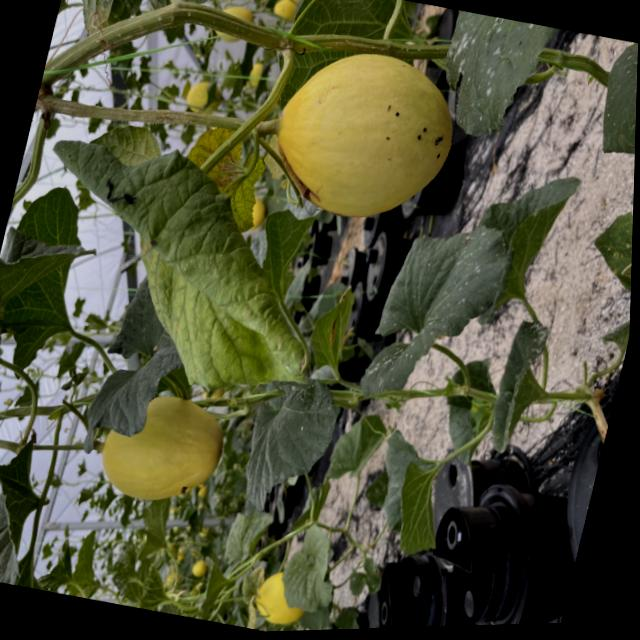alternaria leaf blight: (188, 123, 274, 219)
downy mildew: (14, 101, 351, 412), (54, 0, 154, 41)
powdery mildew: (350, 188, 527, 431), (424, 4, 558, 144), (230, 369, 348, 525), (584, 37, 638, 183)
